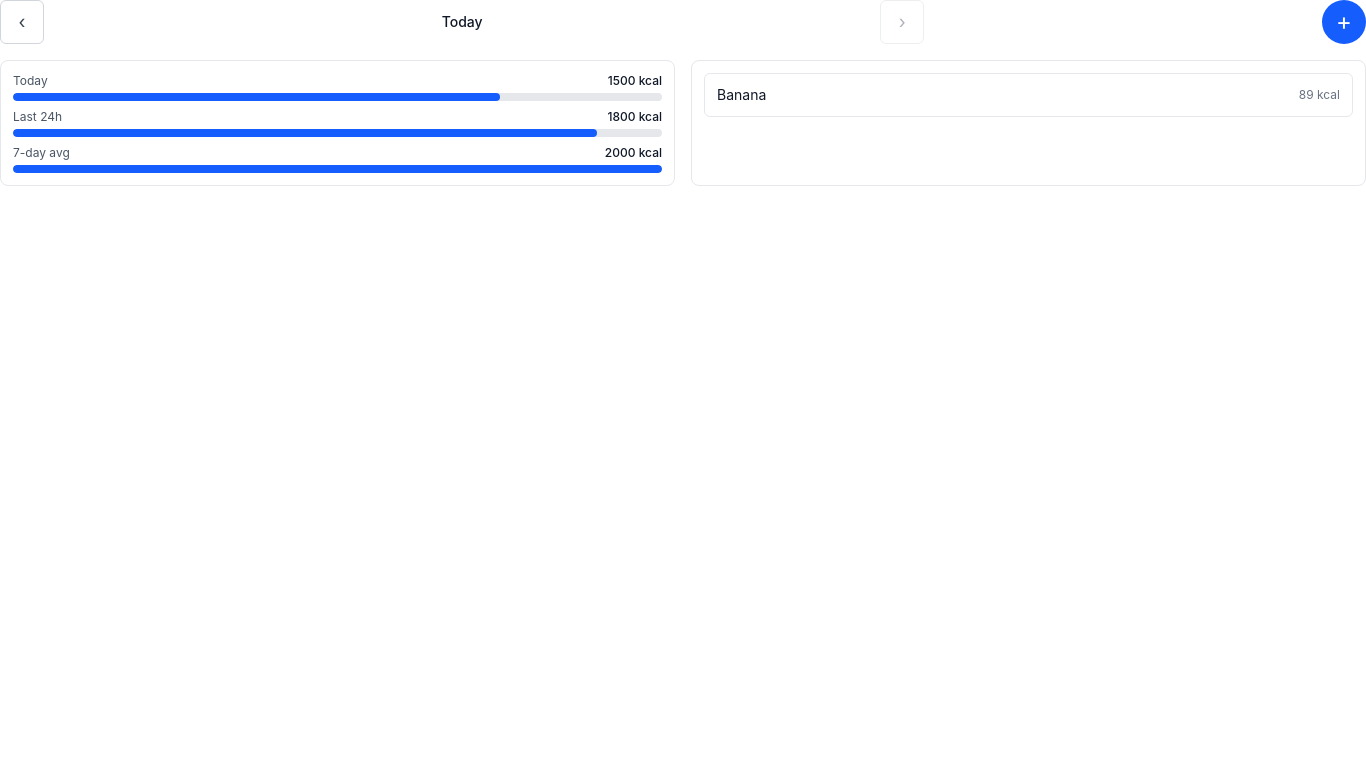
Diary › Delete follows undo-vs-confirm: banner + Undo, no commit
The image size is (1366, 768).
Click the text "Banana". click: click(742, 95)
box: [717,85,766,105]
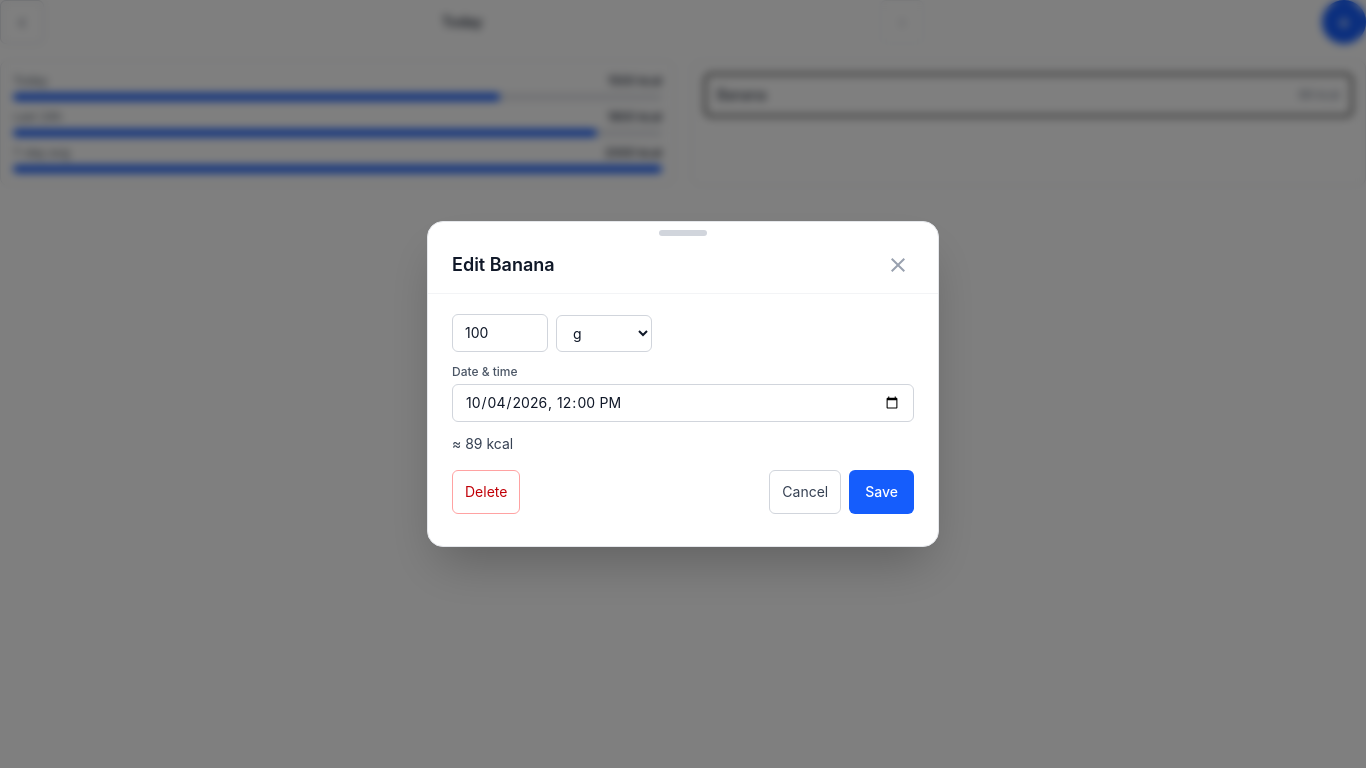
Click the button "Delete". click: click(486, 492)
box: [452,470,520,514]
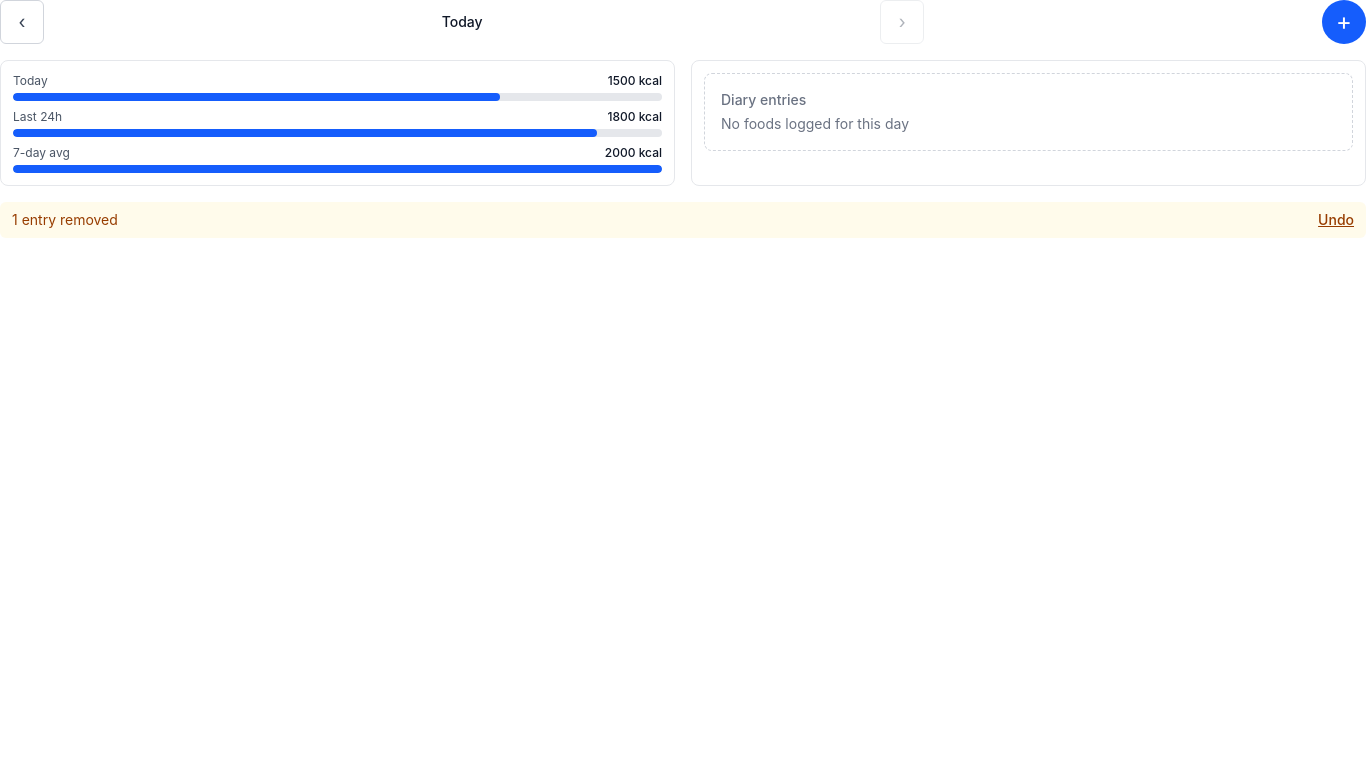
Result: the text "1 entry removed" is shown at [12,210,118,230]
Click the button "Undo". click: click(1336, 220)
box: [1318,210,1354,230]
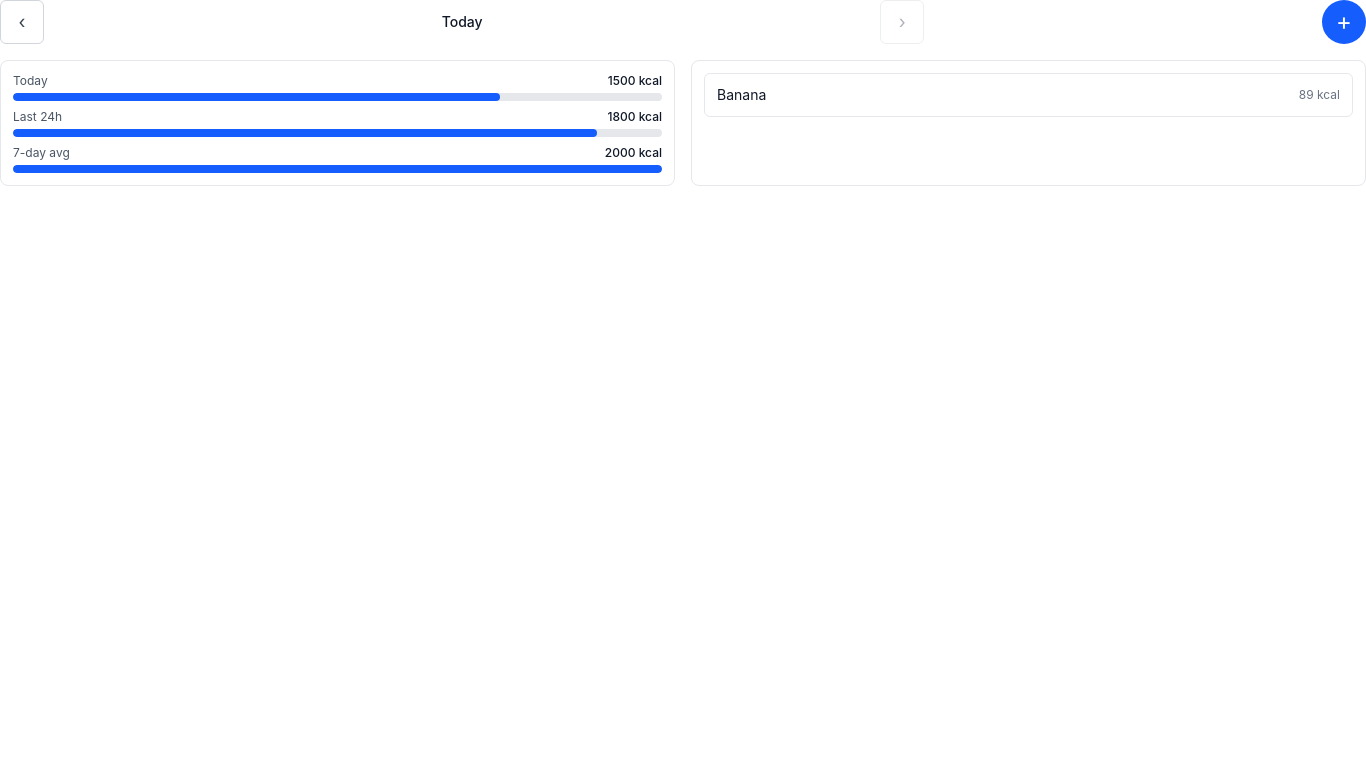
Result: the text "1 entry removed" is gone
